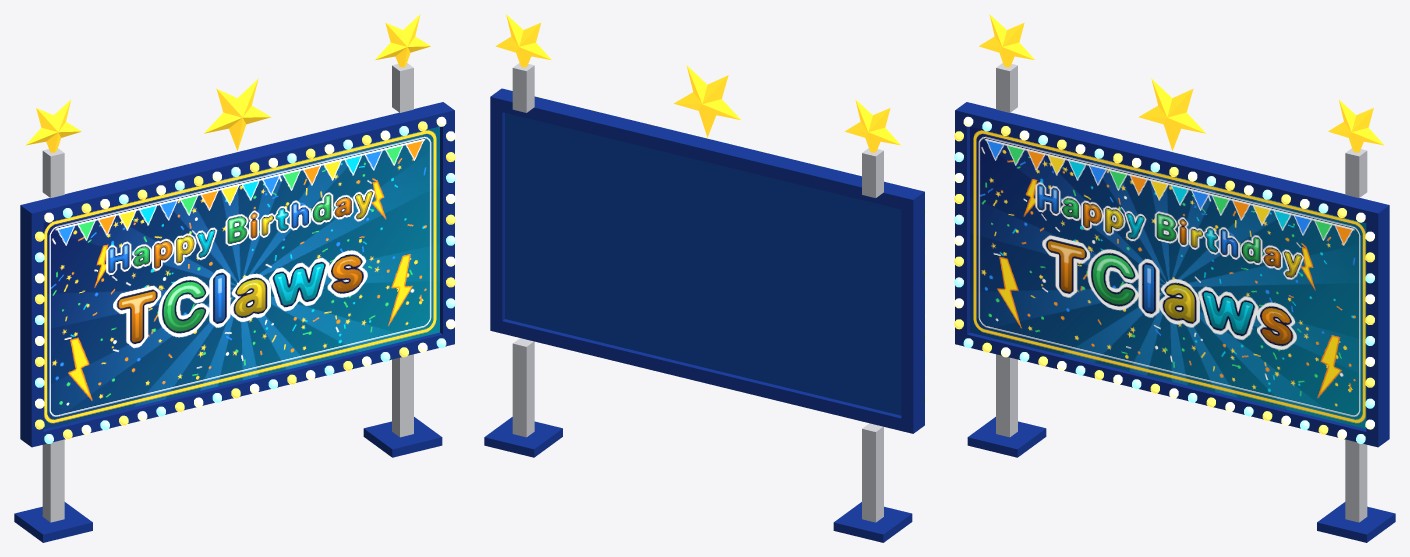
Rendered from tclaws-sign-v1.glb.
3 views of the same model, side by side, from view 1: azimuth 30°, elevation 25°; view 2: azimuth 150°, elevation 25°; view 3: azimuth 330°, elevation 25° (orthographic).
Visible parts, largest first — view 1: model; view 2: model; view 3: model.
Part boxes in pixels (left/top/right/bottom): model: left=14, top=14, right=455, bottom=542; model: left=484, top=14, right=925, bottom=542; model: left=954, top=14, right=1395, bottom=542.
Bounding box in the file's own units: 4.24 × 4.05 × 0.5878.
8 materials, 1 textured.
